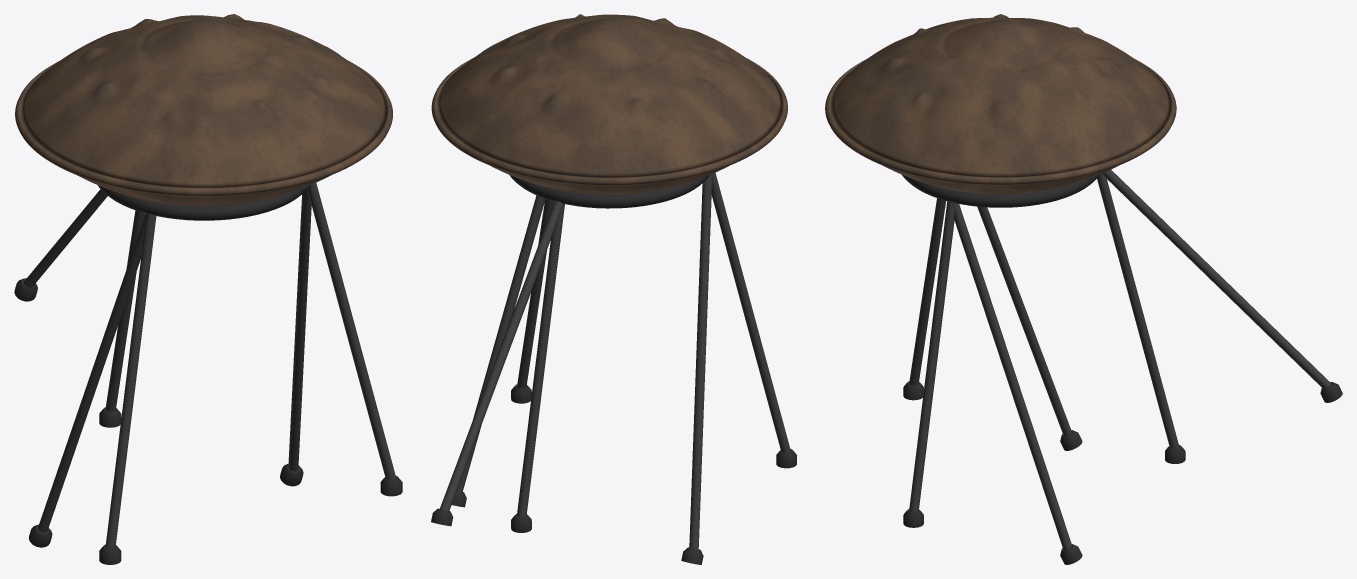
File: handpan.glb
3 views of the same model, side by side, from view 1: azimuth 30°, elevation 25°; view 2: azimuth 150°, elevation 25°; view 3: azimuth 270°, elevation 25° (orthographic). The views are drawn at different scales.
Visible parts, largest first — view 1: Handpan_Shell, Handpan_Stand, Handpan_Stand_Front, Field_Ding, Field_6, Field_5, Field_Extra_A, Field_Extra_B, Field_4, Field_1; view 2: Handpan_Shell, Handpan_Stand_Front, Handpan_Stand, Field_Ding, Field_4, Field_3, Field_5, Field_2, Field_1, Field_Extra_A; view 3: Handpan_Shell, Handpan_Stand_Front, Handpan_Stand, Field_Ding, Field_1, Field_2, Field_3, Field_Extra_B, Field_6.
Part boxes in pixels (x1,y1,x2,y2): Handpan_Shell: (15, 15, 392, 206); Handpan_Stand: (99, 183, 402, 564); Handpan_Stand_Front: (14, 185, 311, 547); Field_Ding: (138, 18, 269, 74); Field_6: (228, 78, 296, 143); Field_5: (65, 63, 140, 122); Field_Extra_A: (146, 91, 198, 147); Field_Extra_B: (292, 61, 352, 104); Field_4: (51, 34, 131, 76); Field_1: (263, 25, 346, 61); Handpan_Shell: (431, 14, 787, 194); Handpan_Stand_Front: (431, 174, 712, 564); Handpan_Stand: (509, 172, 796, 532); Field_Ding: (547, 18, 671, 70); Field_4: (605, 76, 671, 144); Field_3: (520, 71, 589, 140); Field_5: (669, 60, 740, 116); Field_2: (464, 49, 542, 104); Field_1: (475, 24, 553, 58); Field_Extra_A: (692, 38, 749, 68); Handpan_Shell: (825, 18, 1176, 194); Handpan_Stand_Front: (910, 170, 1342, 564); Handpan_Stand: (902, 173, 1185, 527); Field_Ding: (939, 20, 1062, 71); Field_1: (966, 76, 1034, 149); Field_2: (1041, 66, 1113, 131); Field_3: (1070, 43, 1147, 89); Field_Extra_B: (894, 77, 946, 125); Field_6: (857, 44, 927, 86).
Bounding box in the file's own units: 0.5444 × 0.8231 × 0.8019.
Materials: 12 (10 with a texture image).
